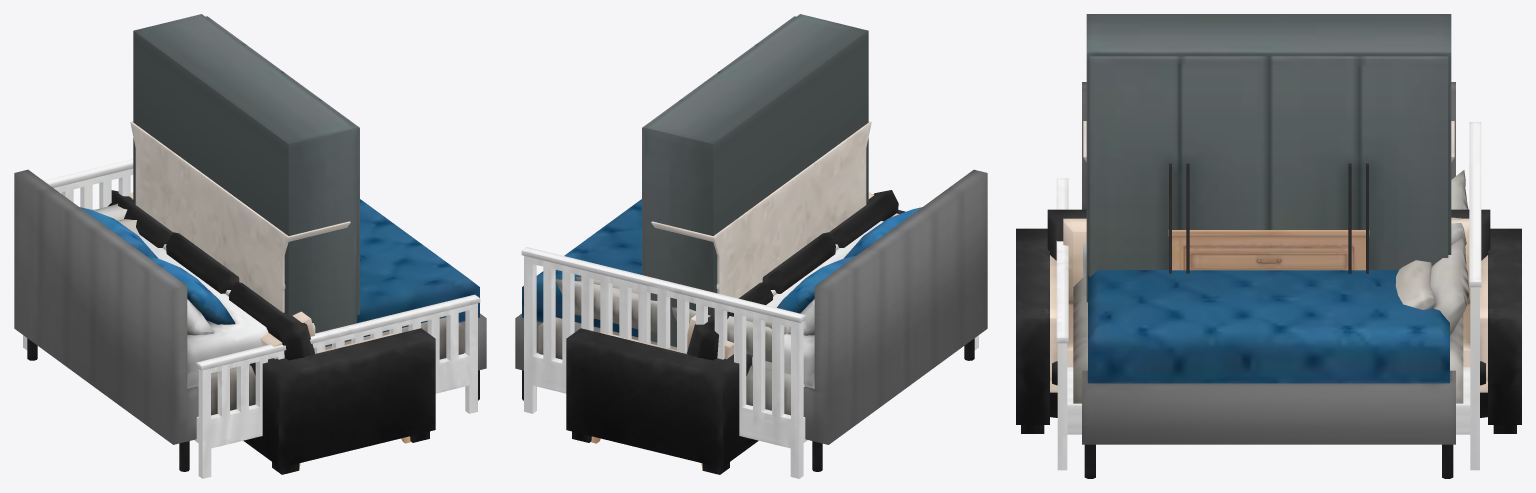
File: furniture.glb
The picture shows the model from 3 angles, left to right: view 1: azimuth 30°, elevation 25°; view 2: azimuth 150°, elevation 25°; view 3: azimuth 270°, elevation 25°; orthographic projection. The views are drawn at different scales.
Visible parts, largest first — view 1: bed_blue, wardrobe, sofa_black, bed_white, fireplace_white, sofa_cream; view 2: bed_blue, wardrobe, bed_white, sofa_black, fireplace_white, sofa_cream; view 3: wardrobe, bed_blue, sofa_black, bed_white, dresser, sofa_cream.
Part boxes in pixels (<box>): bed_blue: <box>14,169,486,471</box>; wardrobe: <box>133,14,359,346</box>; sofa_black: <box>108,190,435,474</box>; bed_white: <box>23,159,480,478</box>; fireplace_white: <box>130,121,350,312</box>; sofa_cream: <box>129,192,410,468</box>; bed_blue: <box>515,169,987,471</box>; wardrobe: <box>642,14,868,347</box>; bed_white: <box>521,247,978,478</box>; sofa_black: <box>566,190,905,474</box>; fireplace_white: <box>651,121,871,298</box>; sofa_cream: <box>591,192,898,469</box>; wardrobe: <box>1086,14,1451,302</box>; bed_blue: <box>1082,82,1455,478</box>; sofa_black: <box>1016,209,1521,433</box>; bed_white: <box>1056,122,1481,470</box>; dresser: <box>1168,230,1369,270</box>; sofa_cream: <box>1050,218,1487,392</box>.
Bounding box in the file's own units: 1.69 × 1.55 × 2.01.
8 materials, 8 textured.
